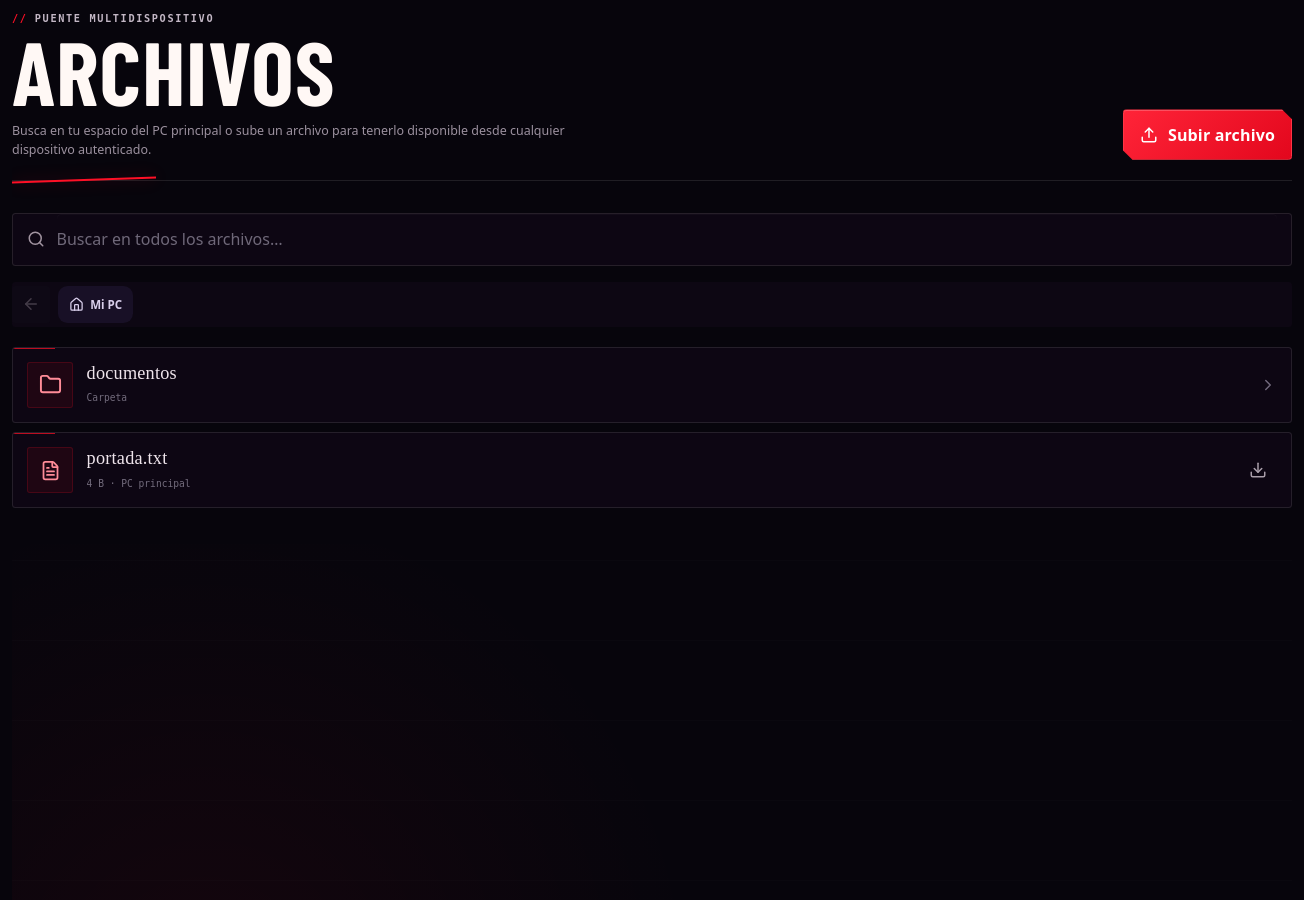
Test: FilesPage › abre carpetas y permite volver al nivel anterior
Click the button "documentos Carpeta": (50, 385) [13, 348, 1291, 422]
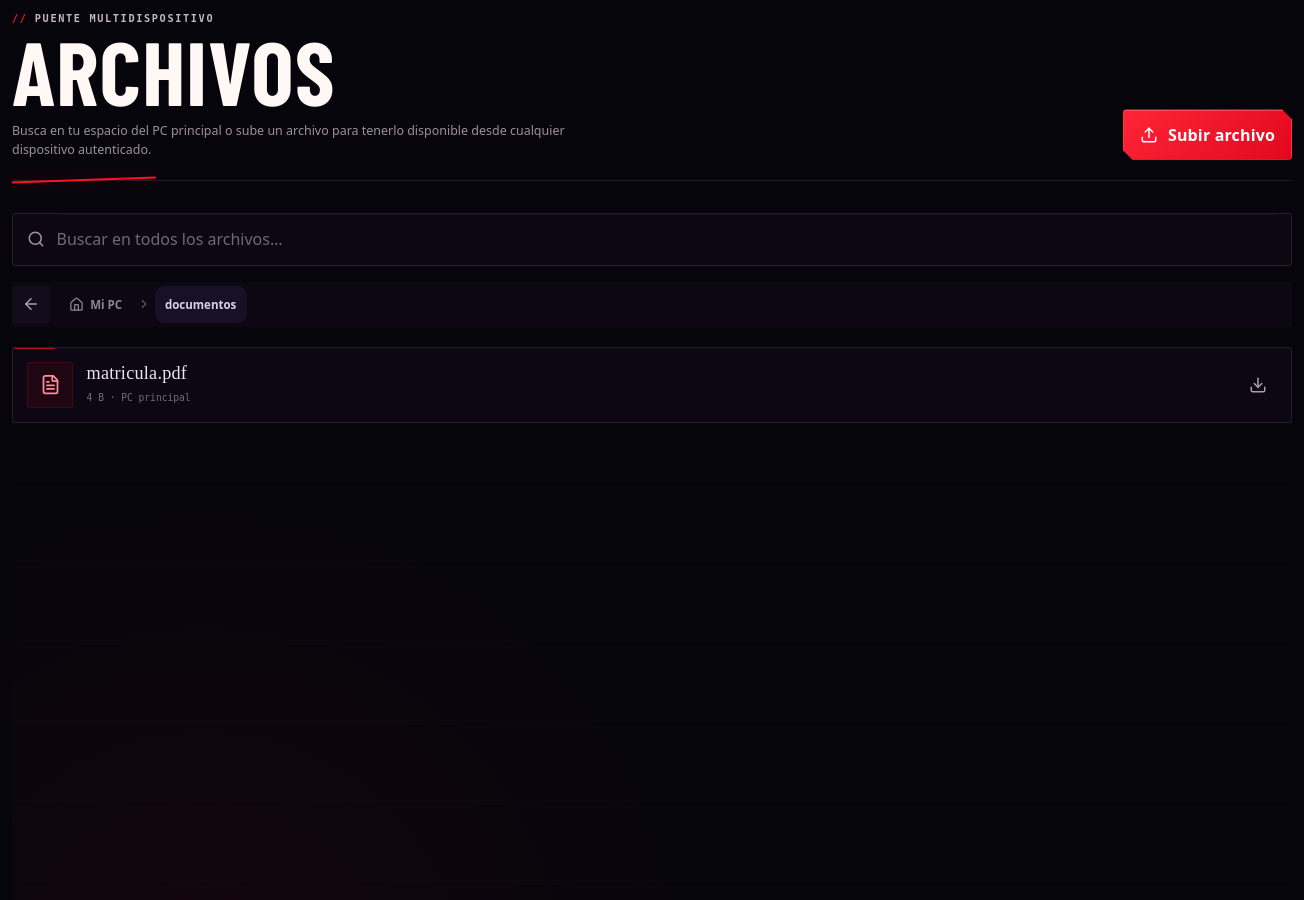
Expected: the heading "matricula.pdf" is shown, [87, 362, 187, 382]
Click the button named "Volver a la carpeta anterior": (31, 304) [12, 286, 50, 323]
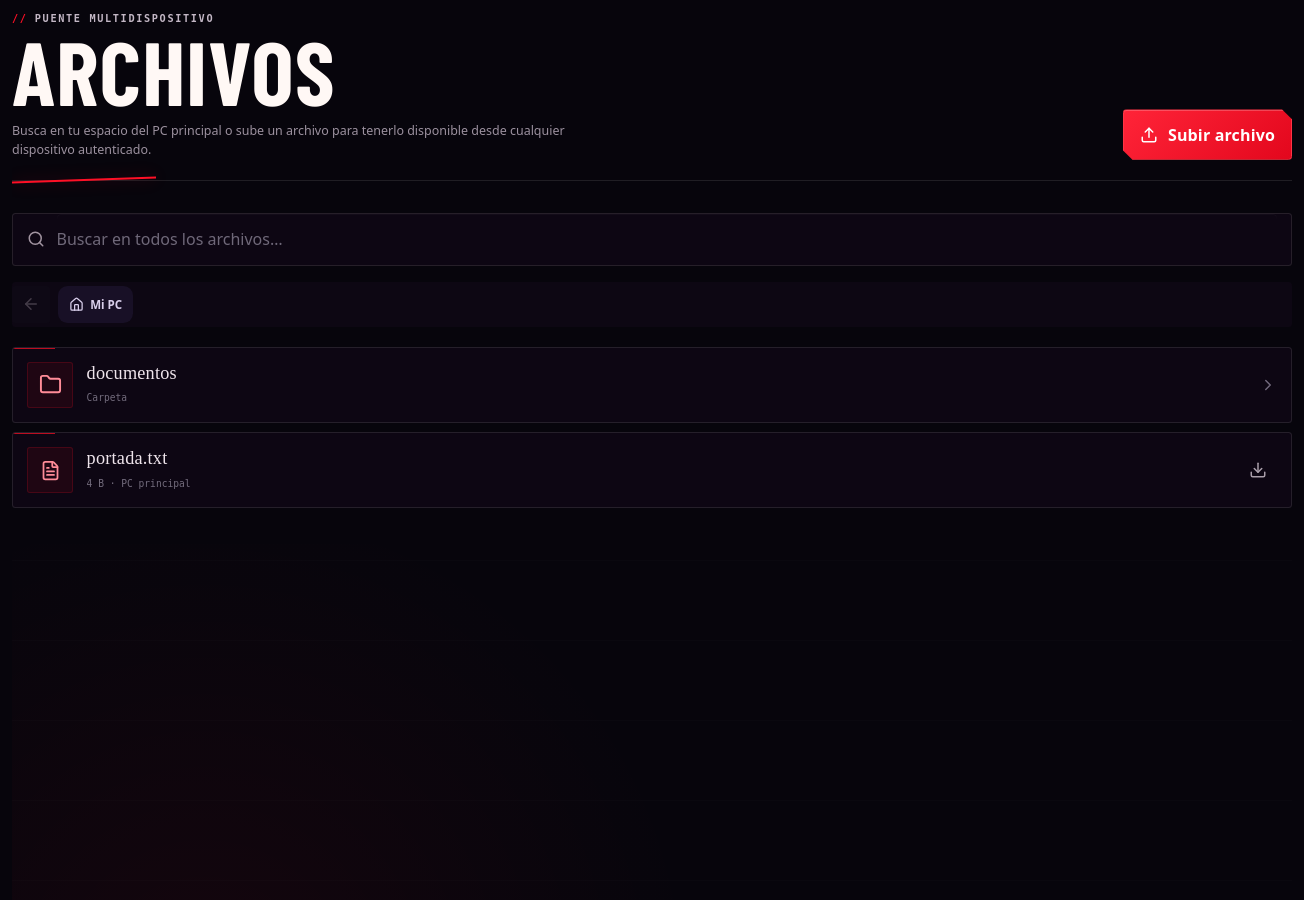
Expected: the heading "portada.txt" is shown, [87, 448, 168, 468]
